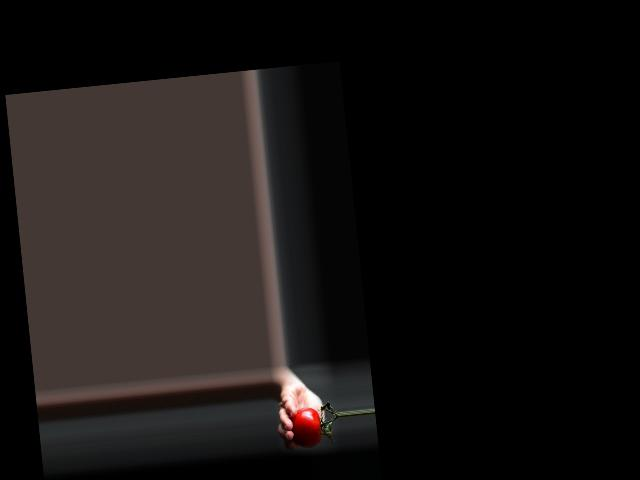tomato: (289, 406, 324, 449)
